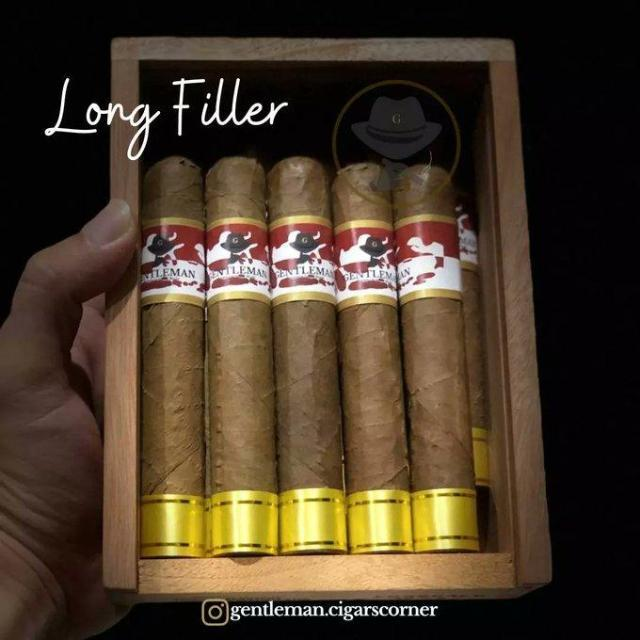rokok: (392, 154, 478, 550), (333, 159, 415, 559), (268, 158, 348, 554), (204, 157, 280, 558), (138, 157, 206, 561)
